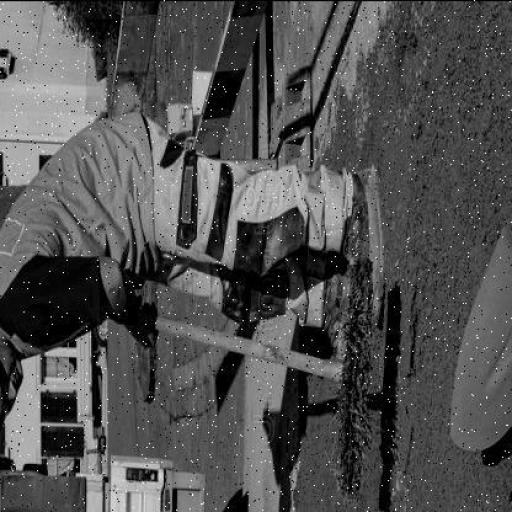safety_shoe: (337, 157, 384, 321)
